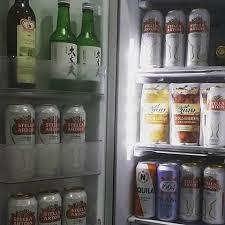soju: (50, 1, 101, 90)
